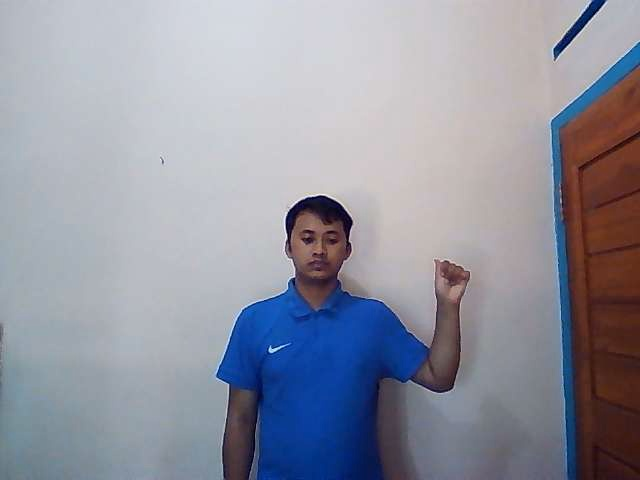A: (433, 258, 470, 303)
